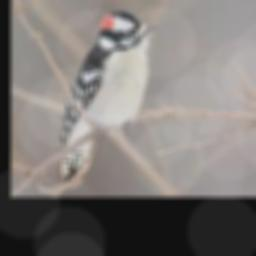Woodpecker: (58, 11, 157, 183)
